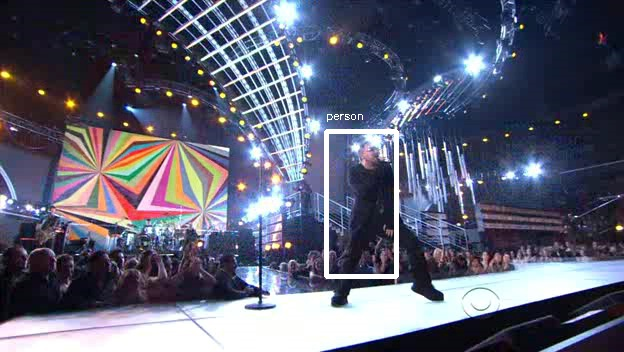person: (347, 141, 412, 242), (344, 141, 409, 242), (350, 141, 415, 242), (347, 138, 412, 239), (347, 144, 412, 245)
target_negative: (160, 81, 250, 209), (37, 178, 302, 200), (175, 85, 200, 200), (344, 247, 383, 305), (199, 343, 563, 347), (221, 339, 238, 340)
